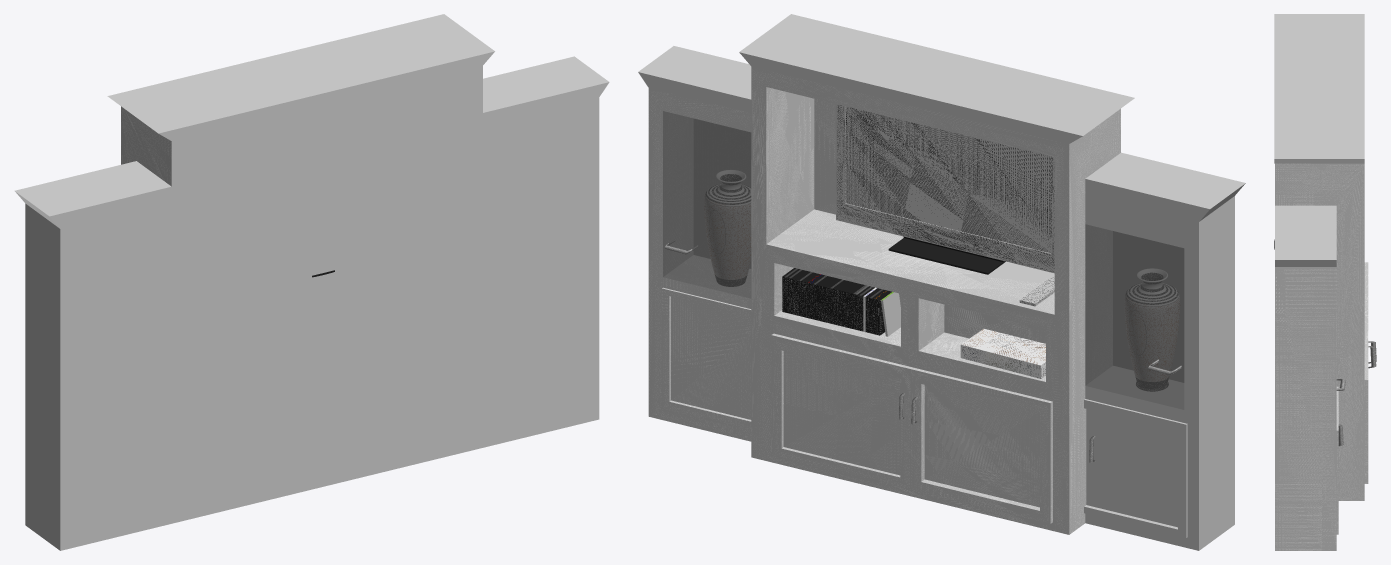
The picture shows the model from 3 angles, left to right: view 1: azimuth 30°, elevation 25°; view 2: azimuth 150°, elevation 25°; view 3: azimuth 270°, elevation 25°; orthographic projection. The views are drawn at different scales.
Visible parts, largest first — view 1: mesh81_mesh81-geometry; view 2: mesh81_mesh81-geometry, mesh13_mesh13-geometry, mesh1_mesh1-geometry, mesh15_mesh15-geometry, mesh14_mesh14-geometry, mesh5_mesh5-geometry; view 3: mesh81_mesh81-geometry, mesh5_mesh5-geometry.
Part boxes in pixels (x1,y1,x2,y2): mesh81_mesh81-geometry: (14, 14, 609, 550); mesh81_mesh81-geometry: (638, 14, 1245, 550); mesh13_mesh13-geometry: (836, 104, 1054, 273); mesh1_mesh1-geometry: (704, 170, 1179, 391); mesh15_mesh15-geometry: (960, 329, 1045, 378); mesh14_mesh14-geometry: (888, 236, 1005, 274); mesh5_mesh5-geometry: (664, 239, 1181, 462); mesh81_mesh81-geometry: (1274, 14, 1368, 550); mesh5_mesh5-geometry: (1336, 341, 1376, 446).
Size of the model in its own units: 0.821 by 0.5515 by 0.1478.
